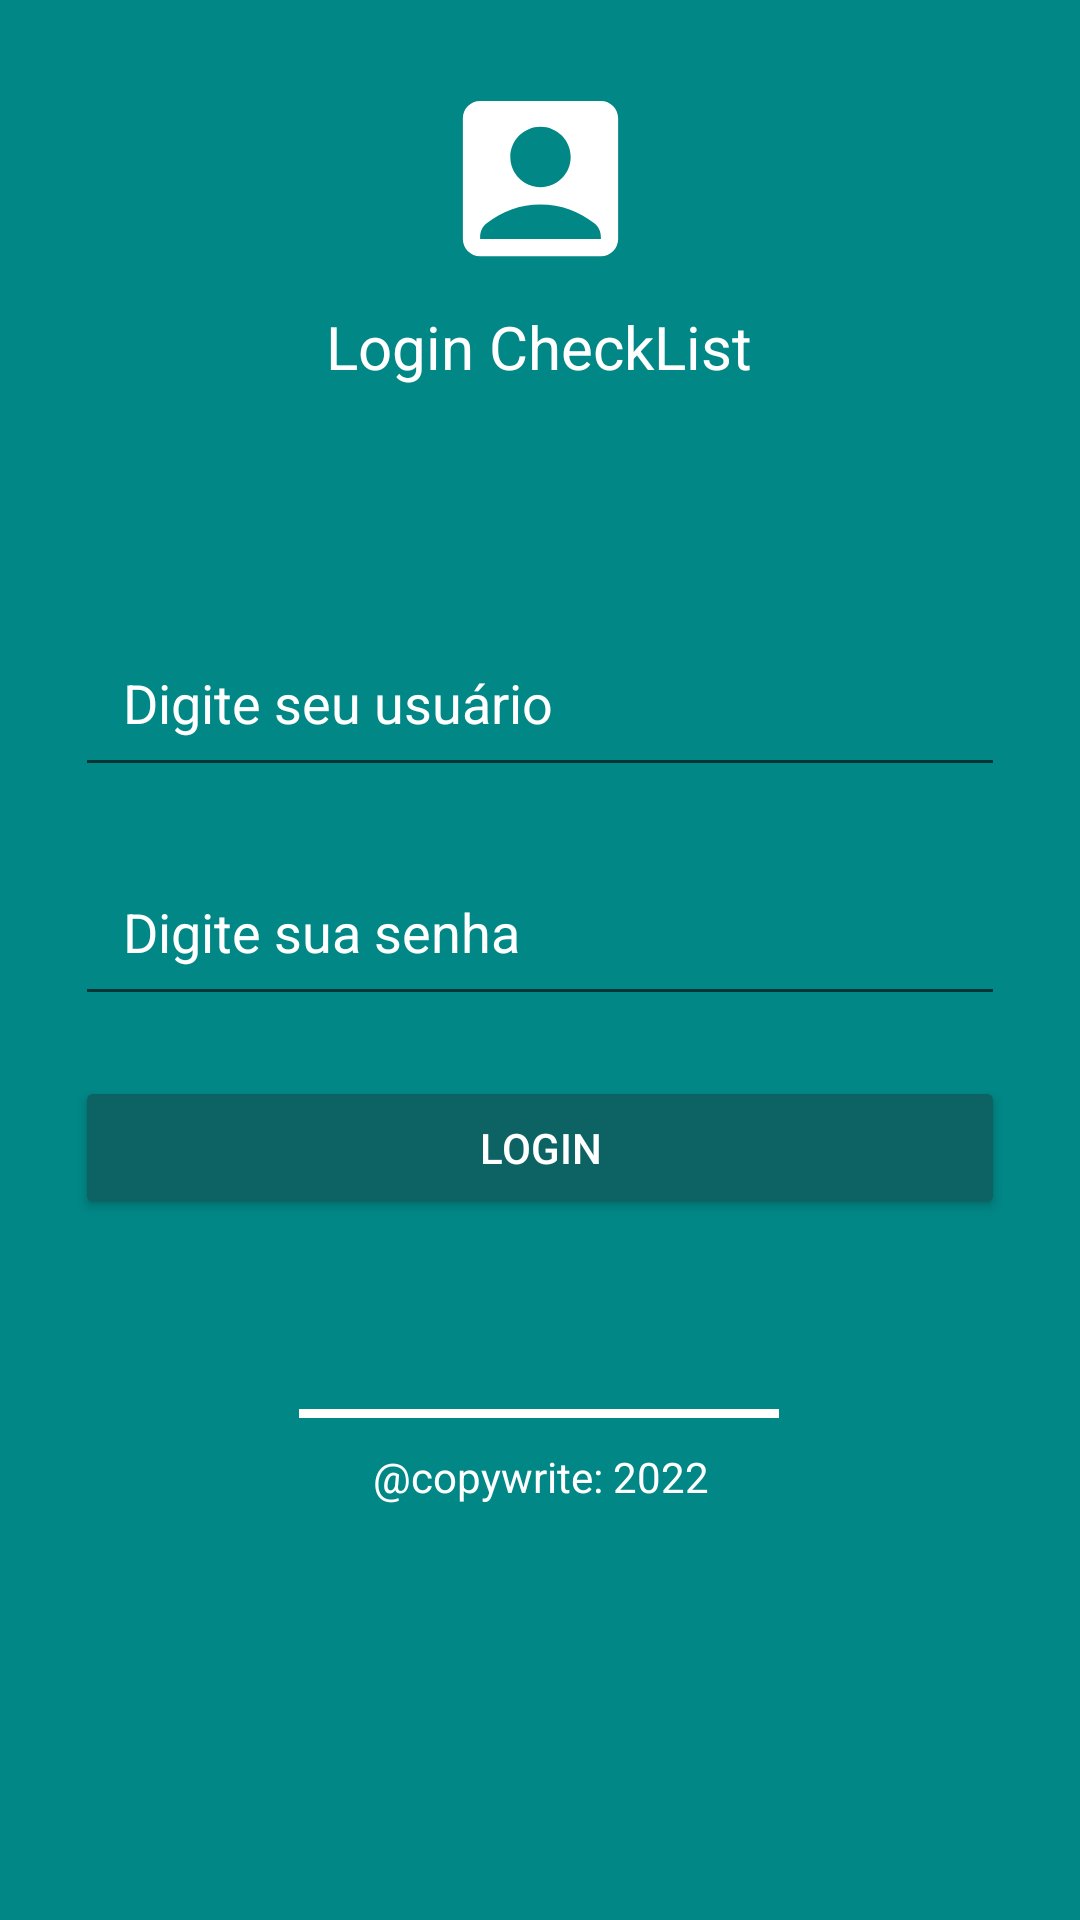

Where icons sit on this 1080*1920 app screen, as (x1, y1, x2, y2):
user: (462, 101, 619, 257)
